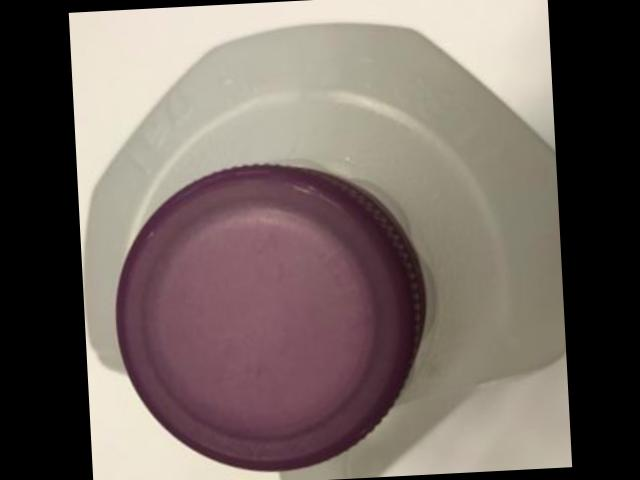plastic: (82, 26, 566, 406)
